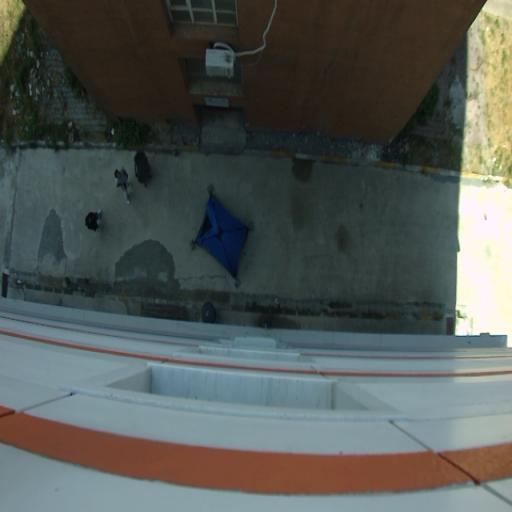tent: (190, 183, 262, 284)
